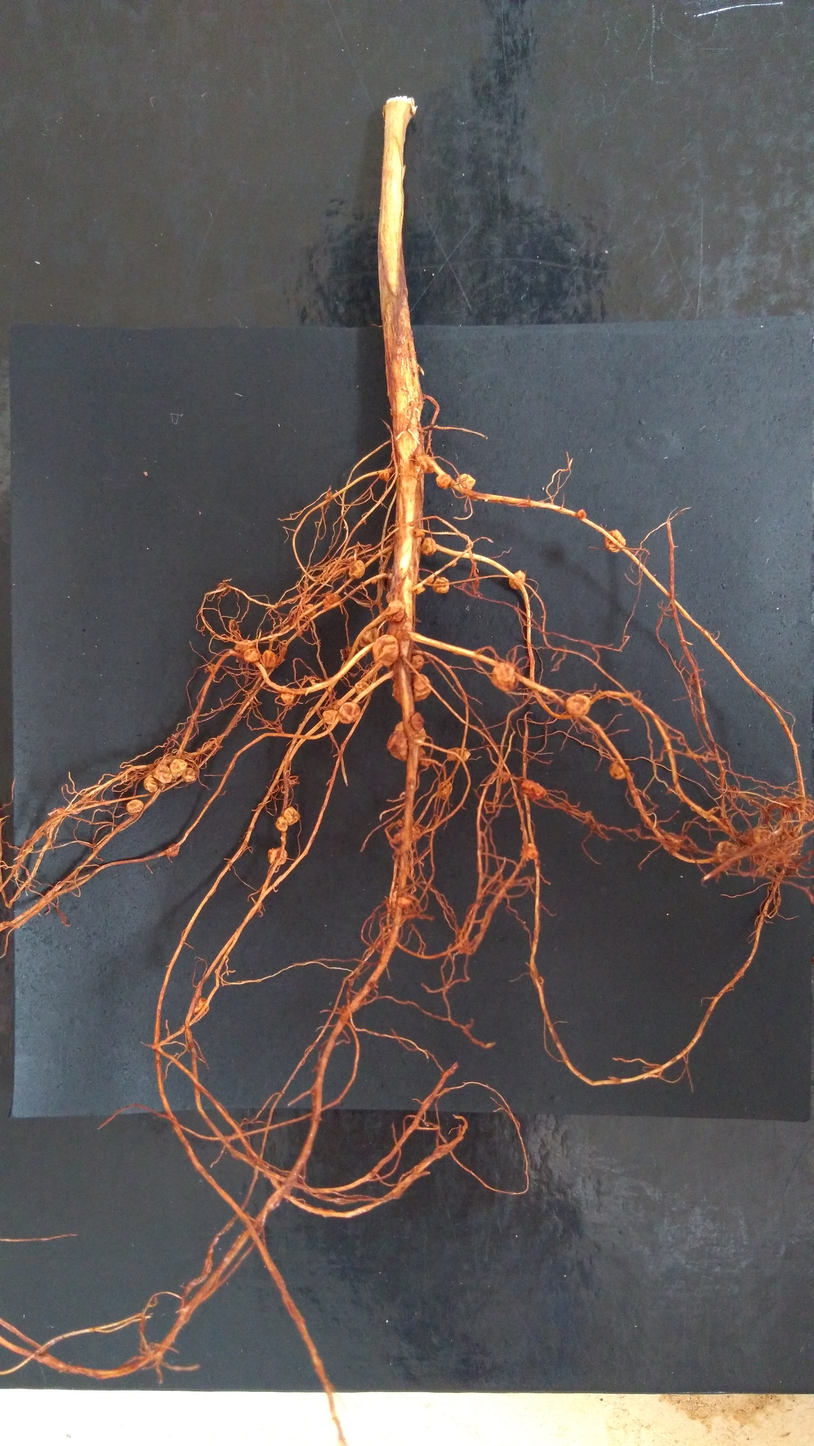nodule: (392, 673, 432, 701), (385, 721, 410, 761), (491, 660, 519, 692), (372, 634, 399, 667), (767, 829, 800, 855), (713, 840, 740, 866), (519, 777, 548, 801), (565, 692, 591, 718), (391, 826, 421, 847), (339, 701, 362, 724), (390, 888, 413, 911), (605, 529, 626, 553), (358, 627, 380, 649), (608, 759, 630, 780), (152, 763, 173, 783), (662, 832, 682, 853), (751, 826, 772, 846), (385, 600, 404, 622), (445, 746, 471, 762), (143, 774, 166, 792), (415, 455, 436, 474), (169, 758, 188, 779), (267, 847, 287, 866), (455, 474, 476, 492), (283, 805, 301, 826), (233, 639, 256, 655), (520, 841, 539, 860), (508, 570, 526, 590), (192, 997, 210, 1017), (416, 745, 433, 766), (409, 651, 424, 674), (432, 576, 450, 594), (348, 560, 365, 579), (262, 649, 278, 669), (410, 711, 426, 731), (437, 779, 453, 799), (181, 766, 199, 783), (420, 537, 436, 556), (322, 709, 341, 725), (280, 690, 297, 707), (322, 593, 341, 608), (435, 473, 451, 490), (353, 680, 370, 696), (126, 798, 143, 814), (243, 648, 261, 663), (415, 725, 428, 745), (303, 603, 317, 617), (275, 816, 288, 831), (167, 843, 180, 857), (729, 784, 740, 798), (378, 470, 390, 482), (500, 770, 511, 783), (325, 484, 333, 500), (413, 529, 425, 539), (576, 509, 587, 519), (415, 586, 425, 595), (370, 577, 378, 585), (396, 819, 404, 827), (451, 560, 458, 568), (296, 628, 302, 637), (427, 577, 434, 583), (379, 559, 384, 566)
